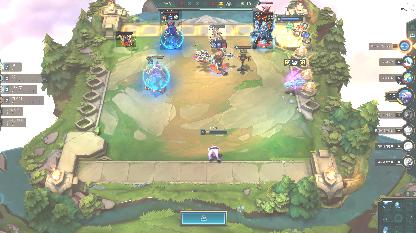1_jayce: (208, 25, 226, 39)
2_daeja: (253, 11, 273, 49)
2_jayce: (195, 40, 233, 78)
2_twitch: (116, 31, 136, 47)
2_zippy: (160, 10, 182, 50)
3_sejuani: (142, 54, 170, 94)
